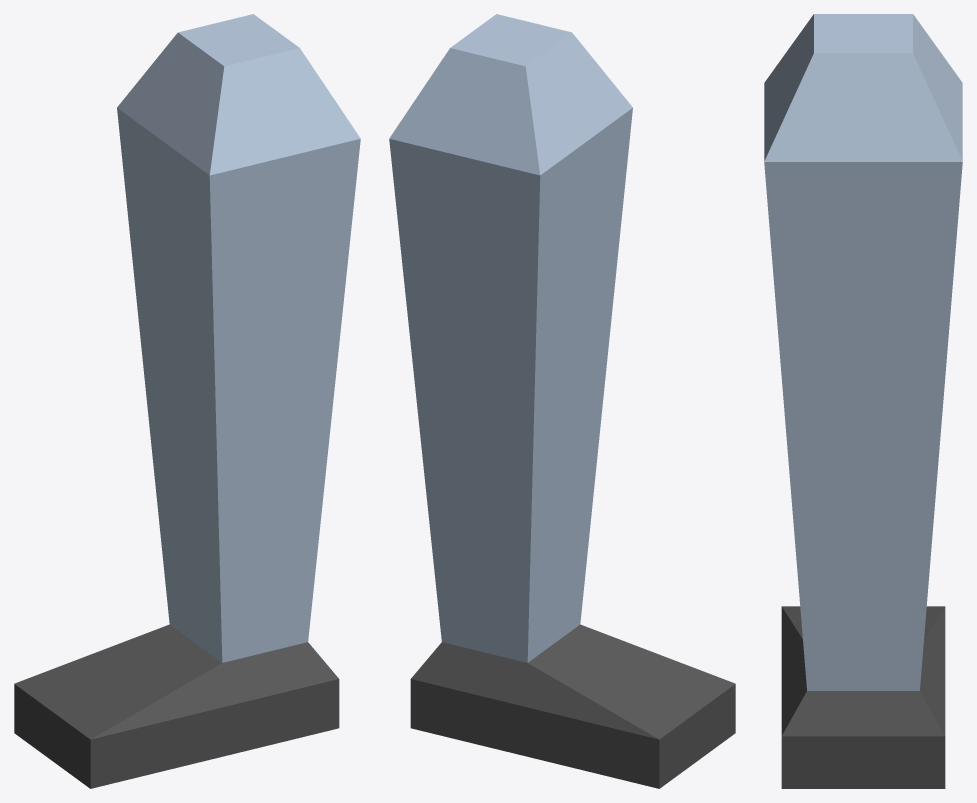
File: SurvivorLowerLeg.fbx
3 renders of one model, left to right at view 1: azimuth 30°, elevation 25°; view 2: azimuth 150°, elevation 25°; view 3: azimuth 270°, elevation 25°, orthographic. The views are drawn at different scales.
Visible parts, largest first — view 1: SurvivorLowerLeg; view 2: SurvivorLowerLeg; view 3: SurvivorLowerLeg.
Boxes of the visible parts, <box> form: SurvivorLowerLeg: <box>14,14,360,788</box>; SurvivorLowerLeg: <box>389,14,735,788</box>; SurvivorLowerLeg: <box>764,14,962,788</box>.
Bounding box in the file's own units: 0.272 × 0.6698 × 0.1668.
